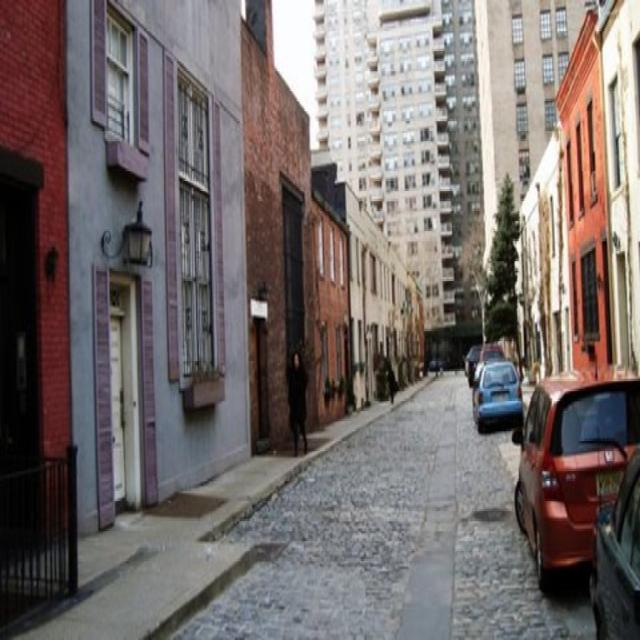car: (473, 359, 521, 432)
